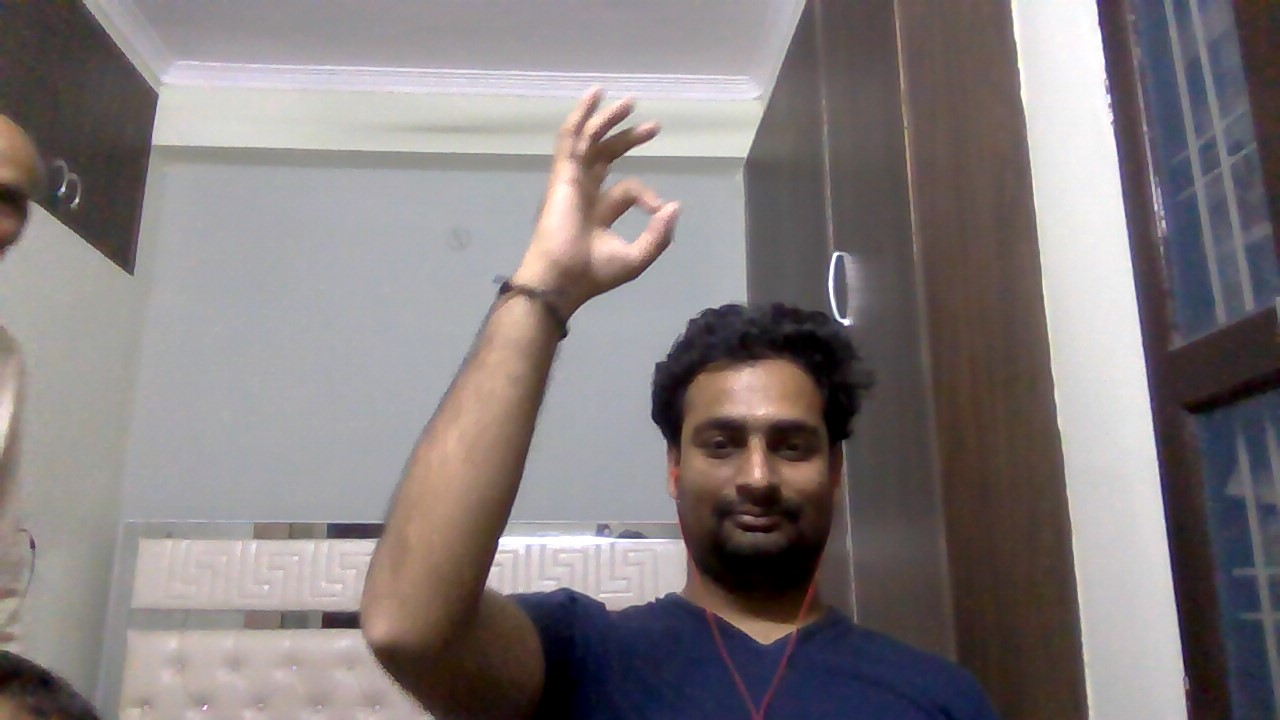Copy: (530, 75, 691, 329)
